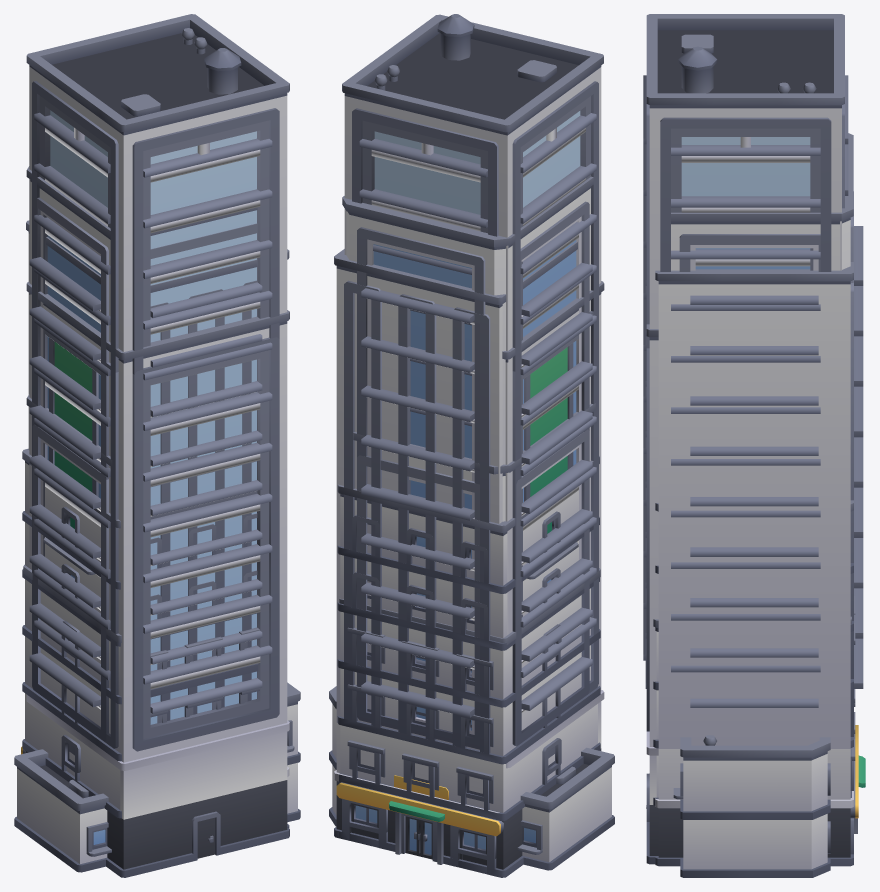
File: neon.glb
3 views of the same model, side by side, from view 1: azimuth 30°, elevation 25°; view 2: azimuth 150°, elevation 25°; view 3: azimuth 270°, elevation 25° (orthographic). The views are drawn at different scales.
Visible parts, largest first — view 1: building-skyscraper-d, building-skyscraper-c, building-skyscraper-b, building-i, building-skyscraper-e, building-skyscraper-a, building-e, building-m; view 2: building-skyscraper-d, building-skyscraper-b, building-skyscraper-e, building-m, building-skyscraper-a, building-i, building-skyscraper-c, building-e; view 3: building-skyscraper-e, building-skyscraper-d, building-skyscraper-b, building-e, building-skyscraper-c, building-skyscraper-a, building-i.
Boxes of the visible parts, x1=… form: building-skyscraper-d: x1=26, y1=14, x2=289, y2=876; building-skyscraper-c: x1=26, y1=281, x2=289, y2=877; building-skyscraper-b: x1=25, y1=166, x2=262, y2=762; building-i: x1=21, y1=564, x2=259, y2=874; building-skyscraper-e: x1=26, y1=220, x2=289, y2=828; building-skyscraper-a: x1=26, y1=394, x2=261, y2=873; building-e: x1=14, y1=682, x2=300, y2=872; building-m: x1=22, y1=448, x2=257, y2=781; building-skyscraper-d: x1=342, y1=14, x2=603, y2=867; building-skyscraper-b: x1=342, y1=176, x2=593, y2=870; building-skyscraper-e: x1=334, y1=241, x2=578, y2=875; building-m: x1=337, y1=456, x2=599, y2=877; building-skyscraper-a: x1=349, y1=403, x2=595, y2=876; building-i: x1=336, y1=568, x2=600, y2=870; building-skyscraper-c: x1=389, y1=281, x2=604, y2=864; building-e: x1=329, y1=686, x2=614, y2=870; building-skyscraper-e: x1=655, y1=191, x2=853, y2=866; building-skyscraper-d: x1=643, y1=14, x2=862, y2=864; building-skyscraper-b: x1=645, y1=133, x2=863, y2=707; building-e: x1=673, y1=735, x2=830, y2=877; building-skyscraper-c: x1=643, y1=324, x2=865, y2=864; building-skyscraper-a: x1=645, y1=442, x2=863, y2=702; building-i: x1=653, y1=596, x2=858, y2=855.
Bounding box in the file's own units: 1.64 × 5.47 × 1.39.
2 materials, 2 textured.
